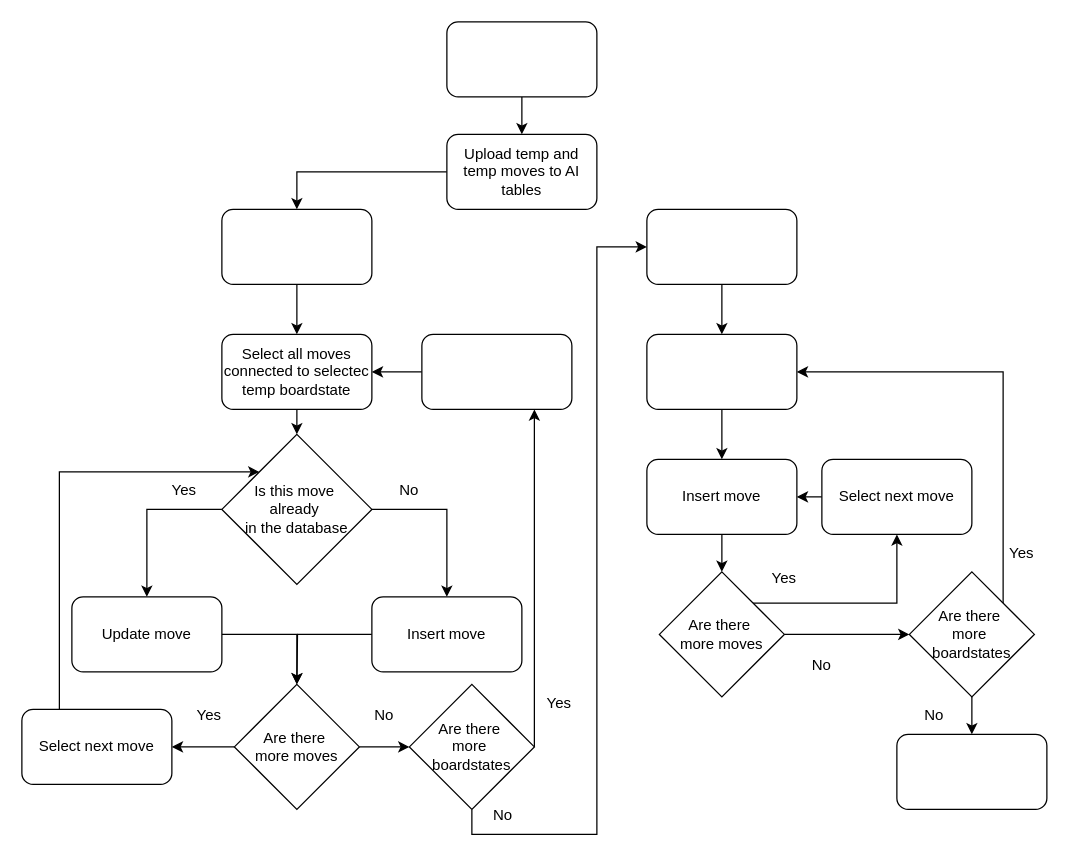
Image size: 1081x866. Some labels were removed from this diagram. Here are the shapes that lost their labels. From the top down, the box of each, then its label:
(446, 21, 597, 97): Game complete
(221, 208, 372, 284): Select all BoardStates from temp Already in UniqueBoards
(646, 208, 797, 284): Select all BoardStates from temp not in UniqueBoards
(421, 333, 572, 409): Select next temp boardstate
(646, 333, 797, 409): Select all moves connected to selected temp boardstate
(896, 733, 1047, 809): return
